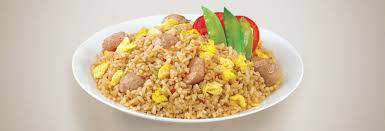Nasi goreng: (90, 25, 283, 119)
